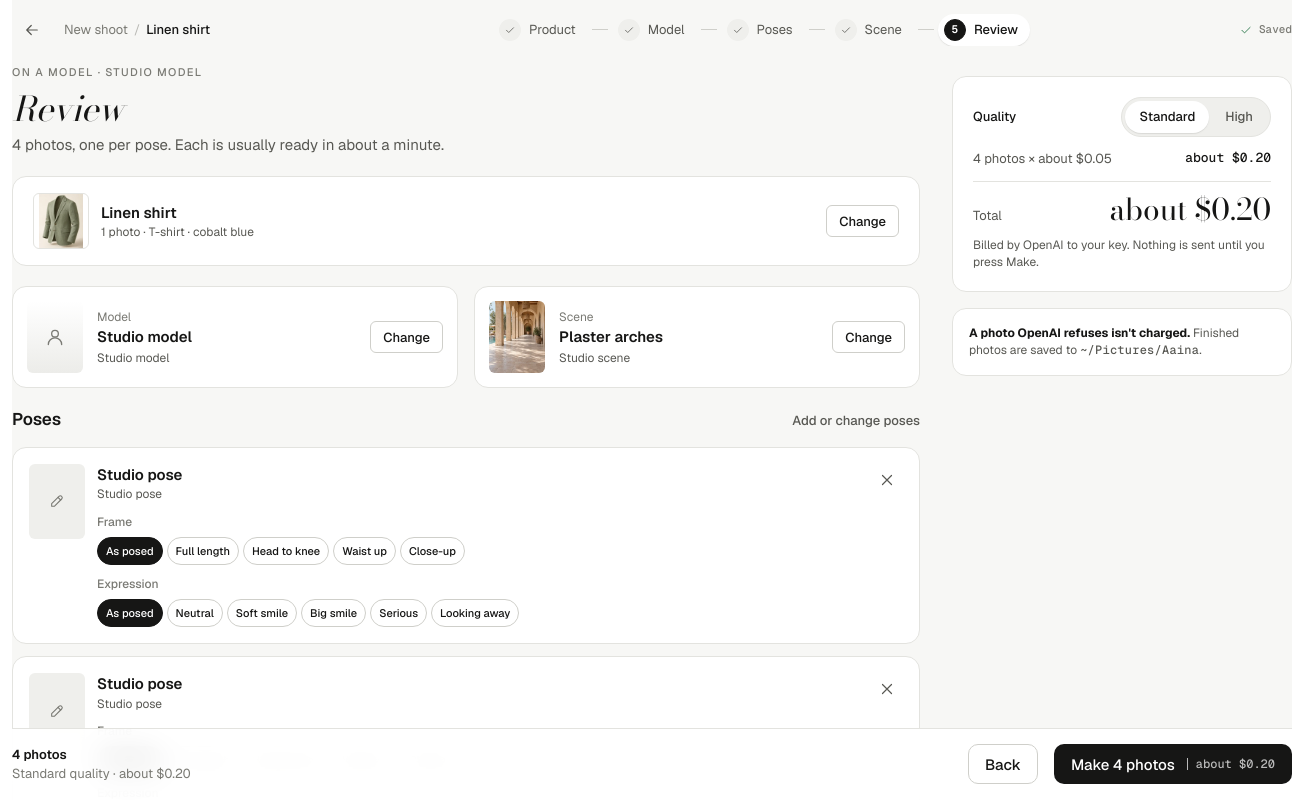
Test: Create → Review › multiplies the price by the poses and switches to High quality
Expected: the button "Make 4 photos about $0.20" is shown, [1054, 744, 1292, 784]
Click the tab "High". click: {"x": 1239, "y": 117}
box: [1211, 101, 1267, 133]
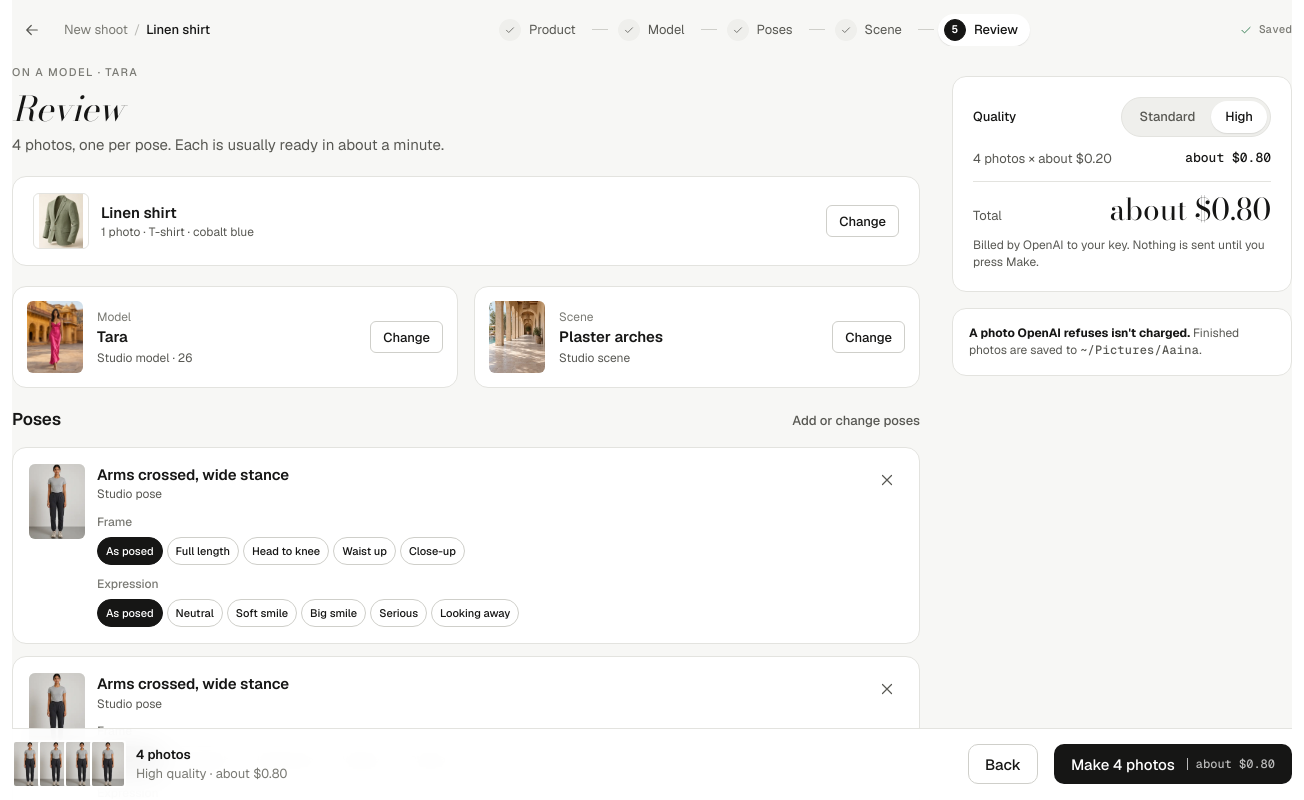
Now the button "Make 4 photos about $0.80" is shown, box [1054, 744, 1292, 784]
